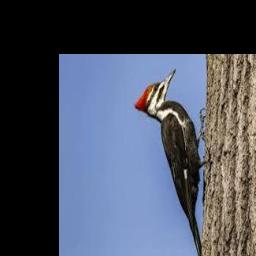Woodpecker: (134, 68, 206, 256)
